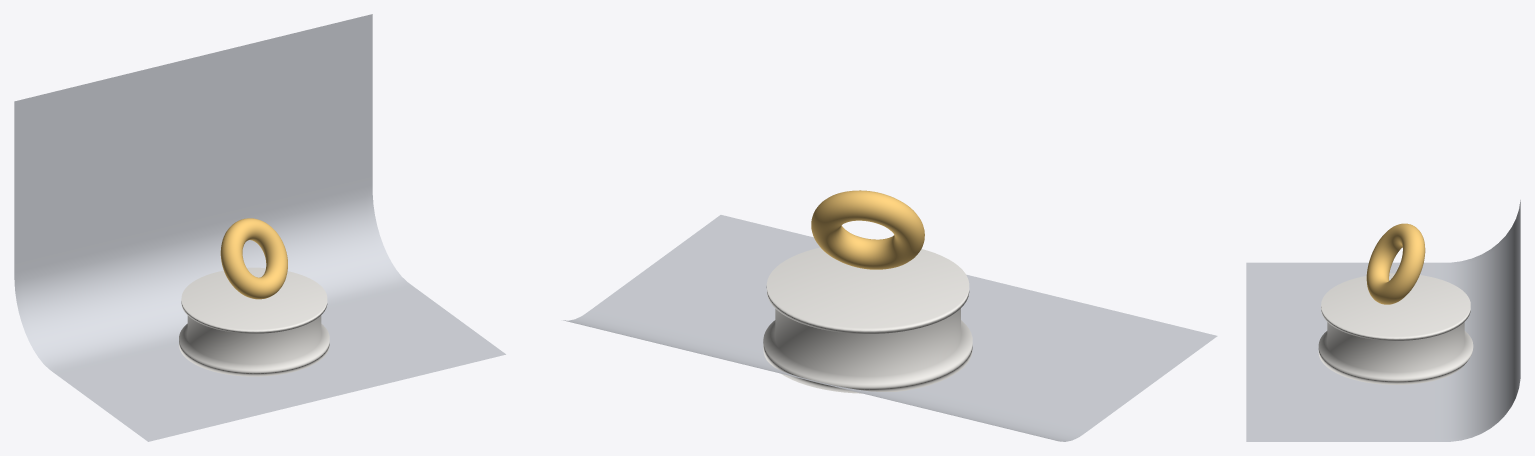
Rendered from pedestal.glb.
The picture shows the model from 3 angles, left to right: view 1: azimuth 30°, elevation 25°; view 2: azimuth 150°, elevation 25°; view 3: azimuth 270°, elevation 25°; orthographic projection. The views are drawn at different scales.
Visible parts, largest first — view 1: Backdrop, Pedestal, Showpiece; view 2: Backdrop, Pedestal, Showpiece; view 3: Backdrop, Pedestal, Showpiece.
Boxes of the visible parts, box(x1,y1,x2,y2) form: Backdrop: box(14, 14, 505, 441); Pedestal: box(179, 267, 329, 376); Showpiece: box(220, 218, 287, 299); Backdrop: box(563, 215, 1217, 441); Pedestal: box(763, 247, 972, 393); Showpiece: box(811, 190, 924, 269); Backdrop: box(1246, 200, 1520, 441); Pedestal: box(1318, 273, 1473, 384); Showpiece: box(1366, 223, 1425, 304).
Bounding box in the file's own units: 3.4 × 2.2 × 2.2.
